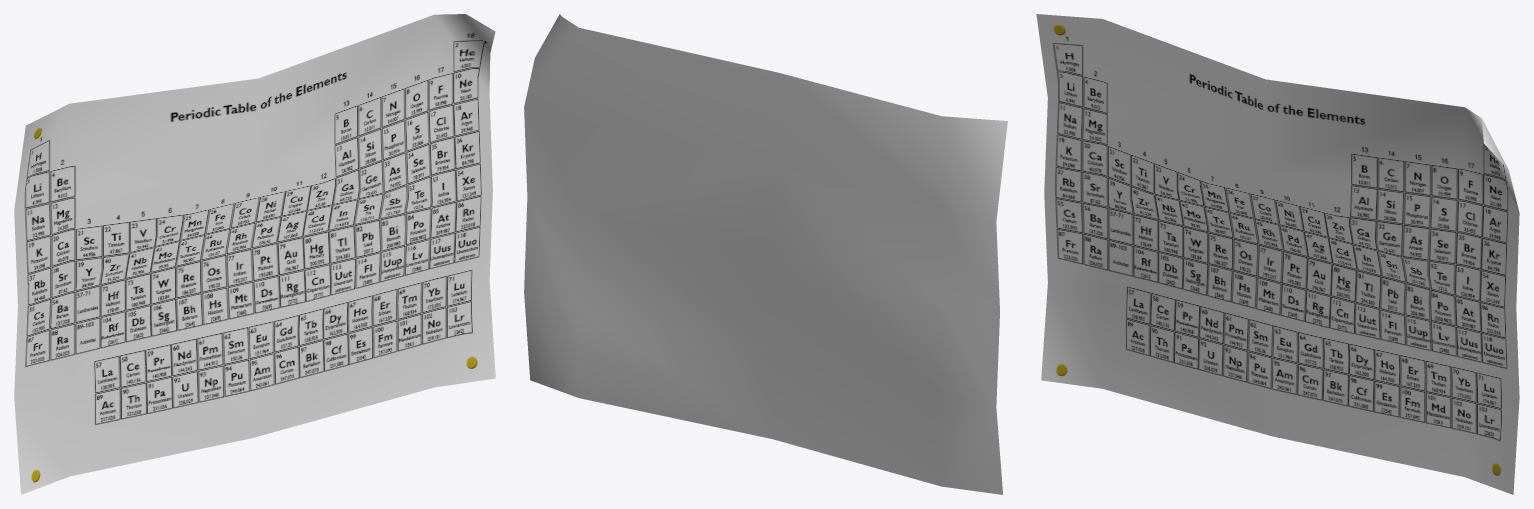
File: Periodic table.FBX
The picture shows the model from 3 angles, left to right: view 1: azimuth 30°, elevation 25°; view 2: azimuth 150°, elevation 25°; view 3: azimuth 330°, elevation 25°; orthographic projection.
Visible parts, largest first — view 1: Periodic table; view 2: Periodic table; view 3: Periodic table.
Part boxes in pixels (<box>): Periodic table: <box>14,14,495,494</box>; Periodic table: <box>524,14,1007,494</box>; Periodic table: <box>1036,14,1519,494</box>.
Bounding box in the file's own units: 127 × 95.3 × 9.78.
1 material, 1 textured.
